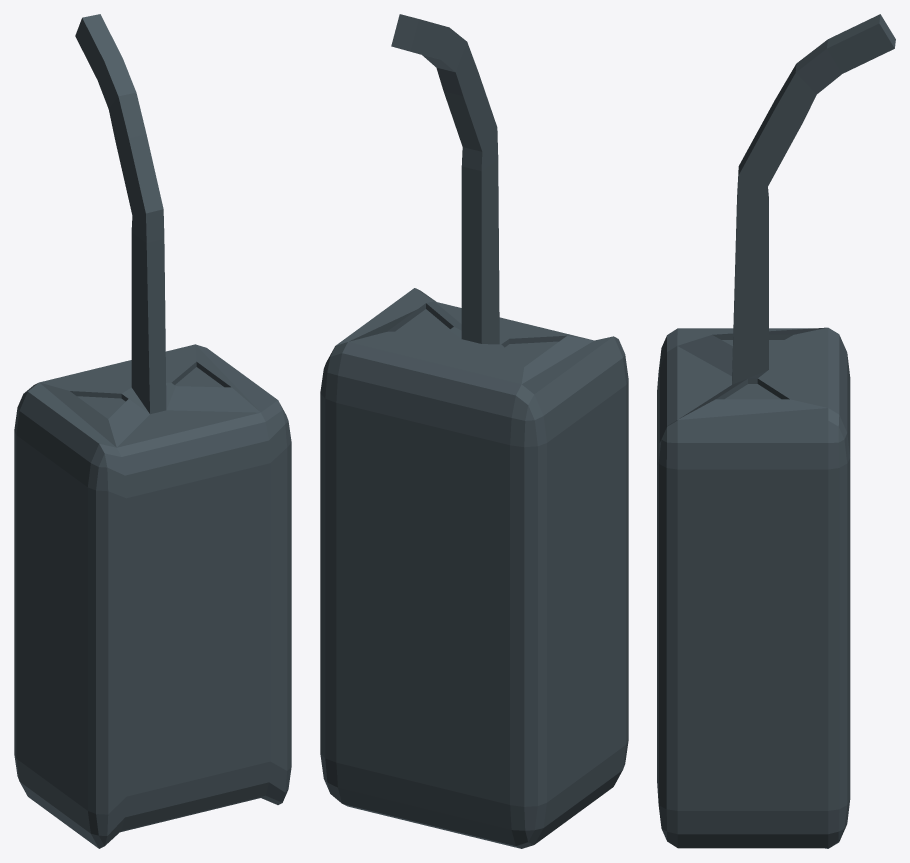
File: Scrap11.fbx
3 views of the same model, side by side, from view 1: azimuth 30°, elevation 25°; view 2: azimuth 150°, elevation 25°; view 3: azimuth 270°, elevation 25° (orthographic). The views are drawn at different scales.
Visible parts, largest first — view 1: Tank; view 2: Tank; view 3: Tank.
Boxes of the visible parts, x1,y1,x2,y2 form: Tank: (14,14,291,848); Tank: (320,14,628,848); Tank: (657,14,895,848).
Size of the model in its own units: 87.05 by 308 by 84.61.
